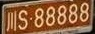S: (18, 10, 28, 30)
